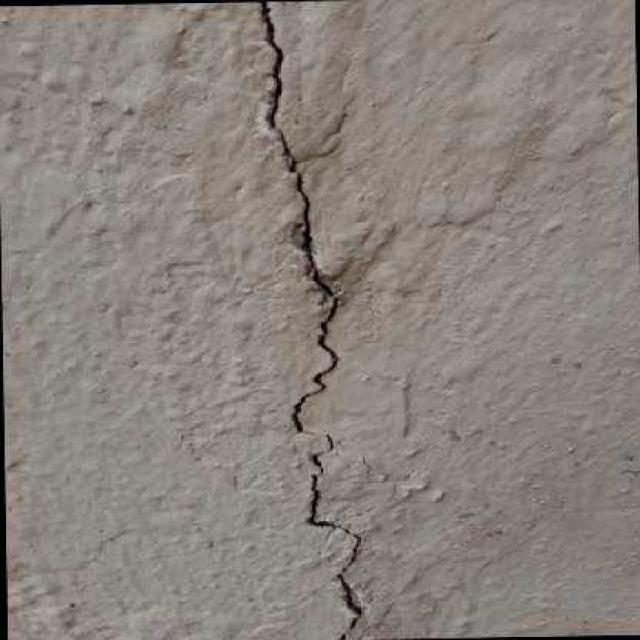D00: (252, 1, 368, 640)
